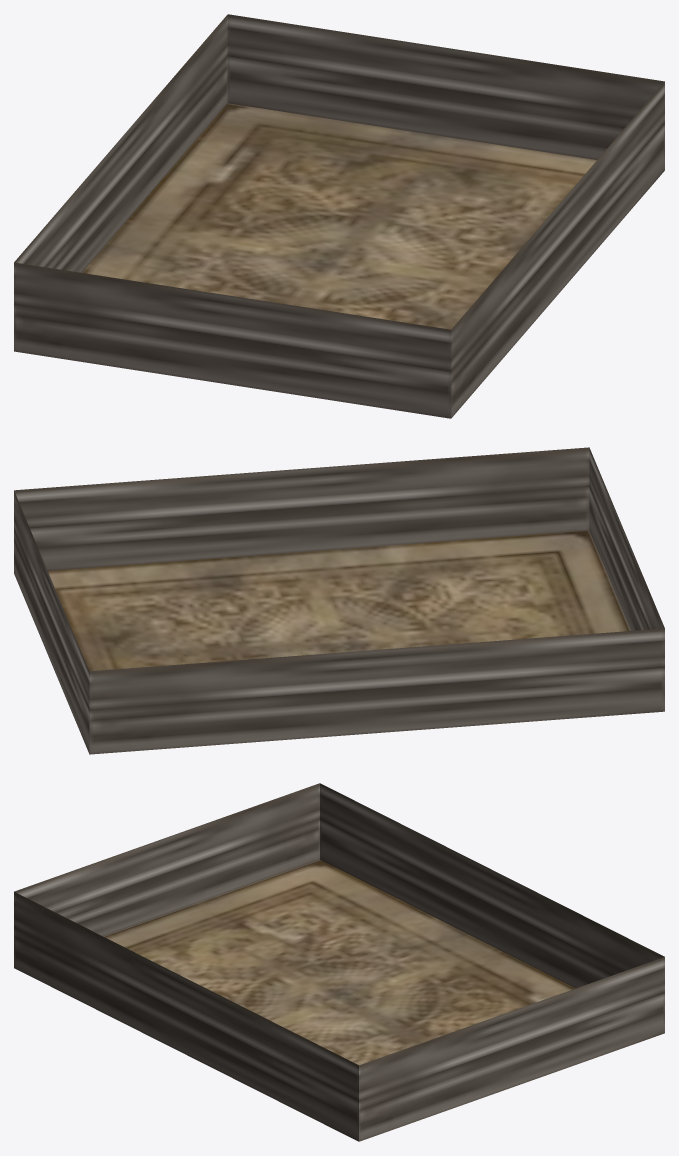
Rendered from cards_deck_high.fbx.
3 renders of one model, top to bottom at view 1: azimuth 30°, elevation 25°; view 2: azimuth 150°, elevation 25°; view 3: azimuth 270°, elevation 25°, orthographic. The views are drawn at different scales.
Visible parts, largest first — view 1: cards_deck_group; view 2: cards_deck_group; view 3: cards_deck_group.
Boxes of the visible parts, x1=… form: cards_deck_group: x1=14, y1=14, x2=664, y2=418; cards_deck_group: x1=14, y1=447, x2=664, y2=754; cards_deck_group: x1=14, y1=783, x2=664, y2=1141.
Size of the model in its own units: 45.47 by 5.74 by 44.32.
Materials: 1 (1 with a texture image).
